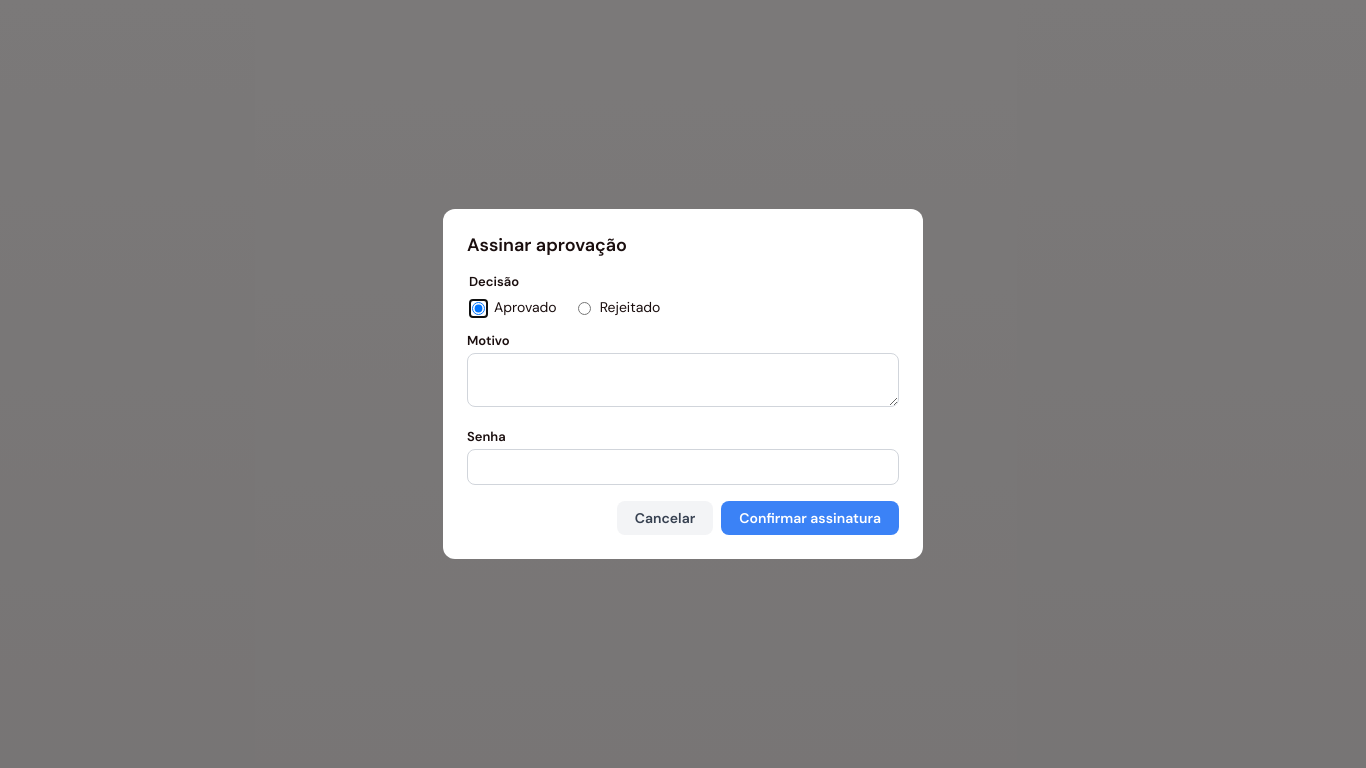
Test case: SignoffDialog › error_rate_limited — code=authn.rate_limited shows rate limit message
In the password field labelled "Senha": (683, 467) [467,449,899,485], type "secret"
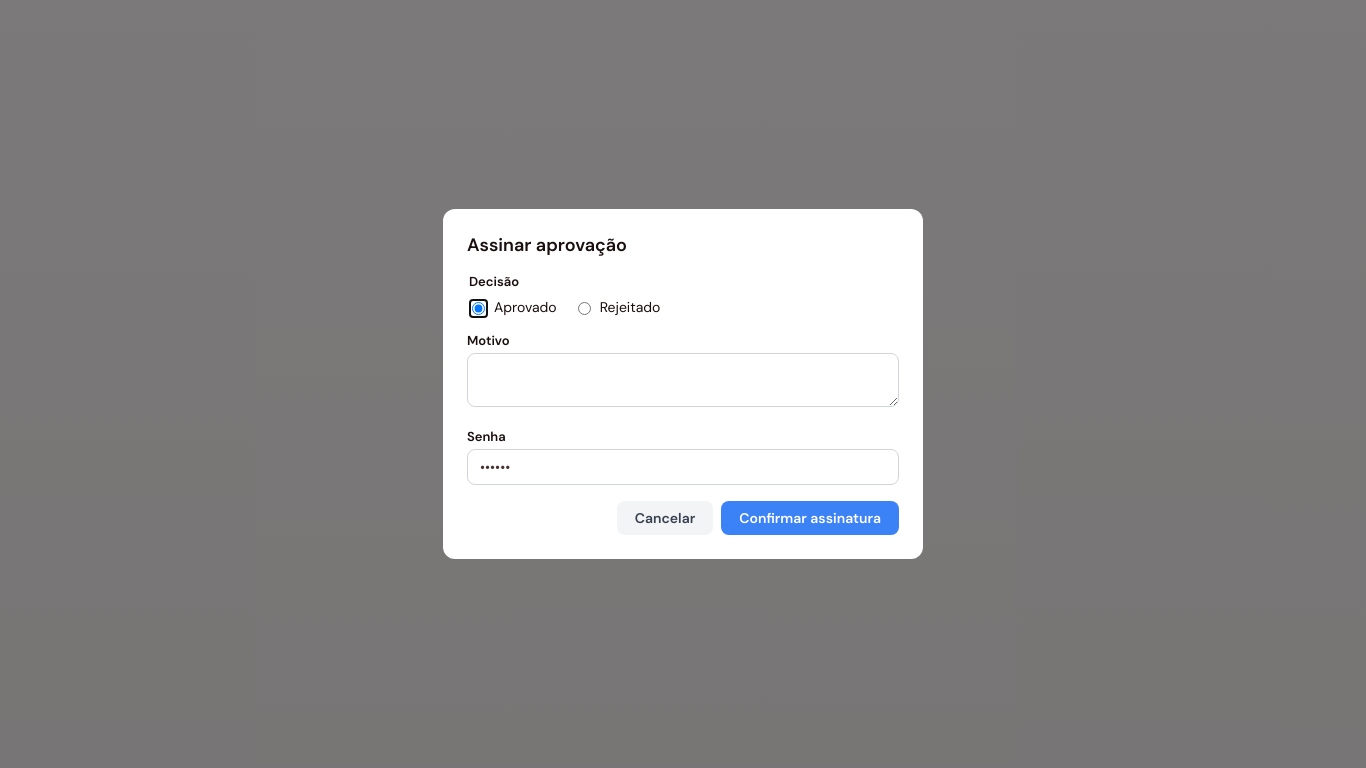
Click the button "Confirmar assinatura": (810, 518) [721,501,899,535]
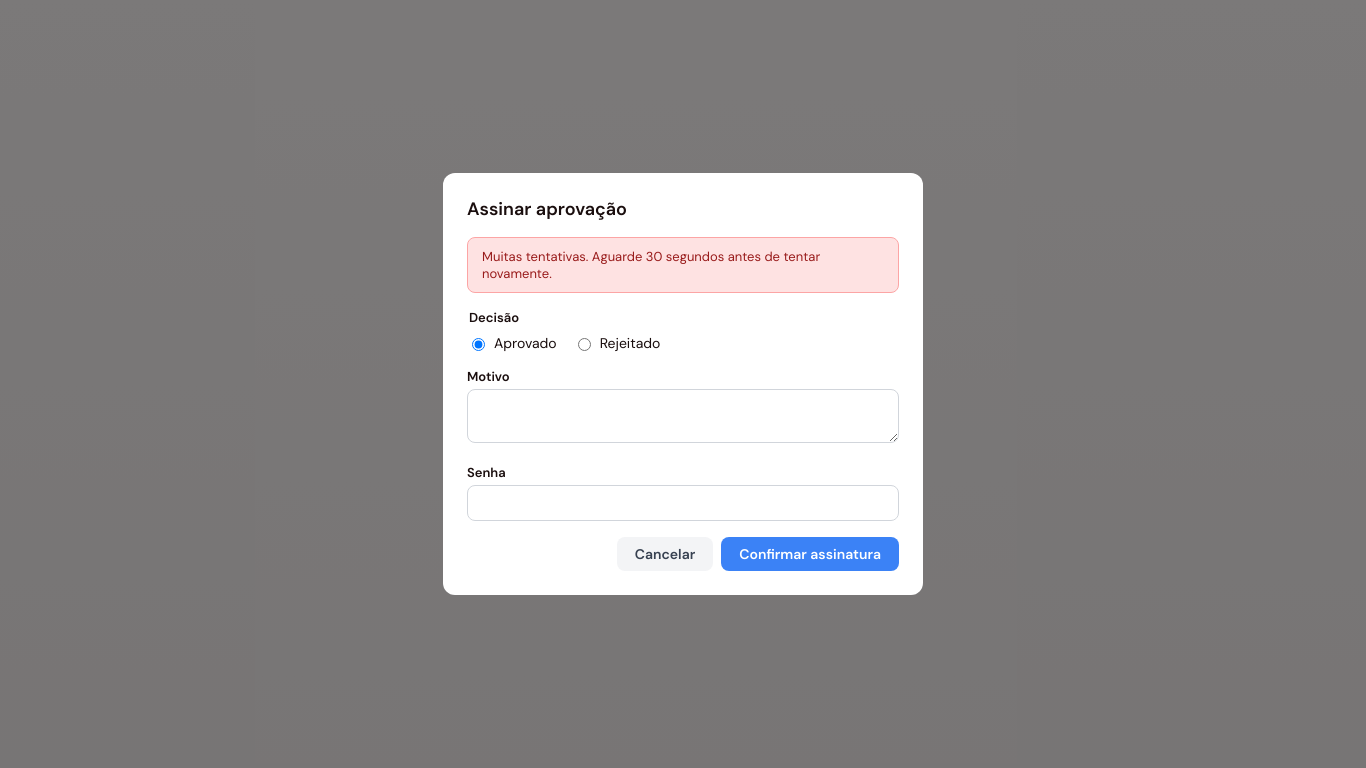
Expected: the text "Muitas tentativas. Aguarde 30 segundos antes de tentar novamente." is shown, [467,237,899,293]
